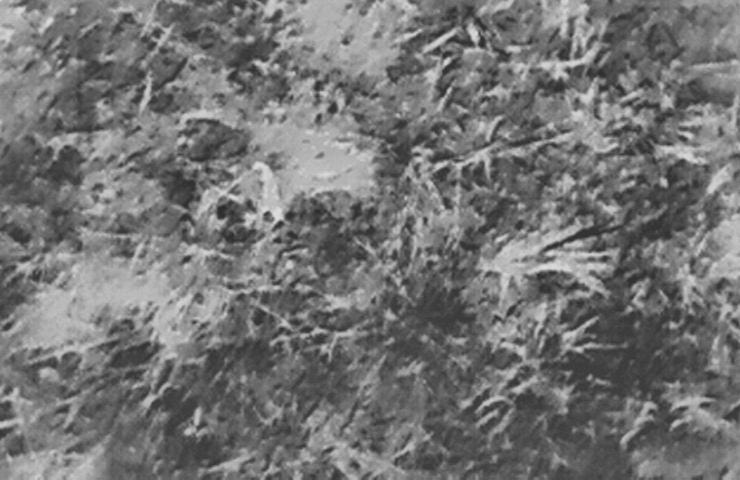landmines: (268, 114, 384, 206)
